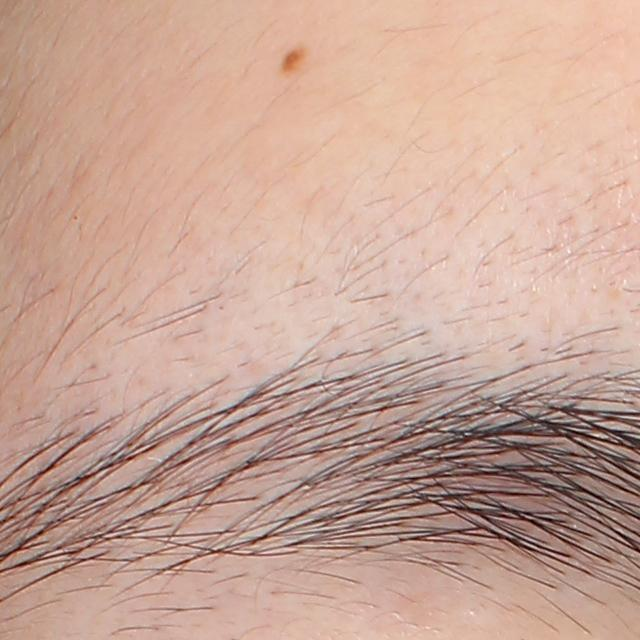nevus: (275, 47, 303, 72)
